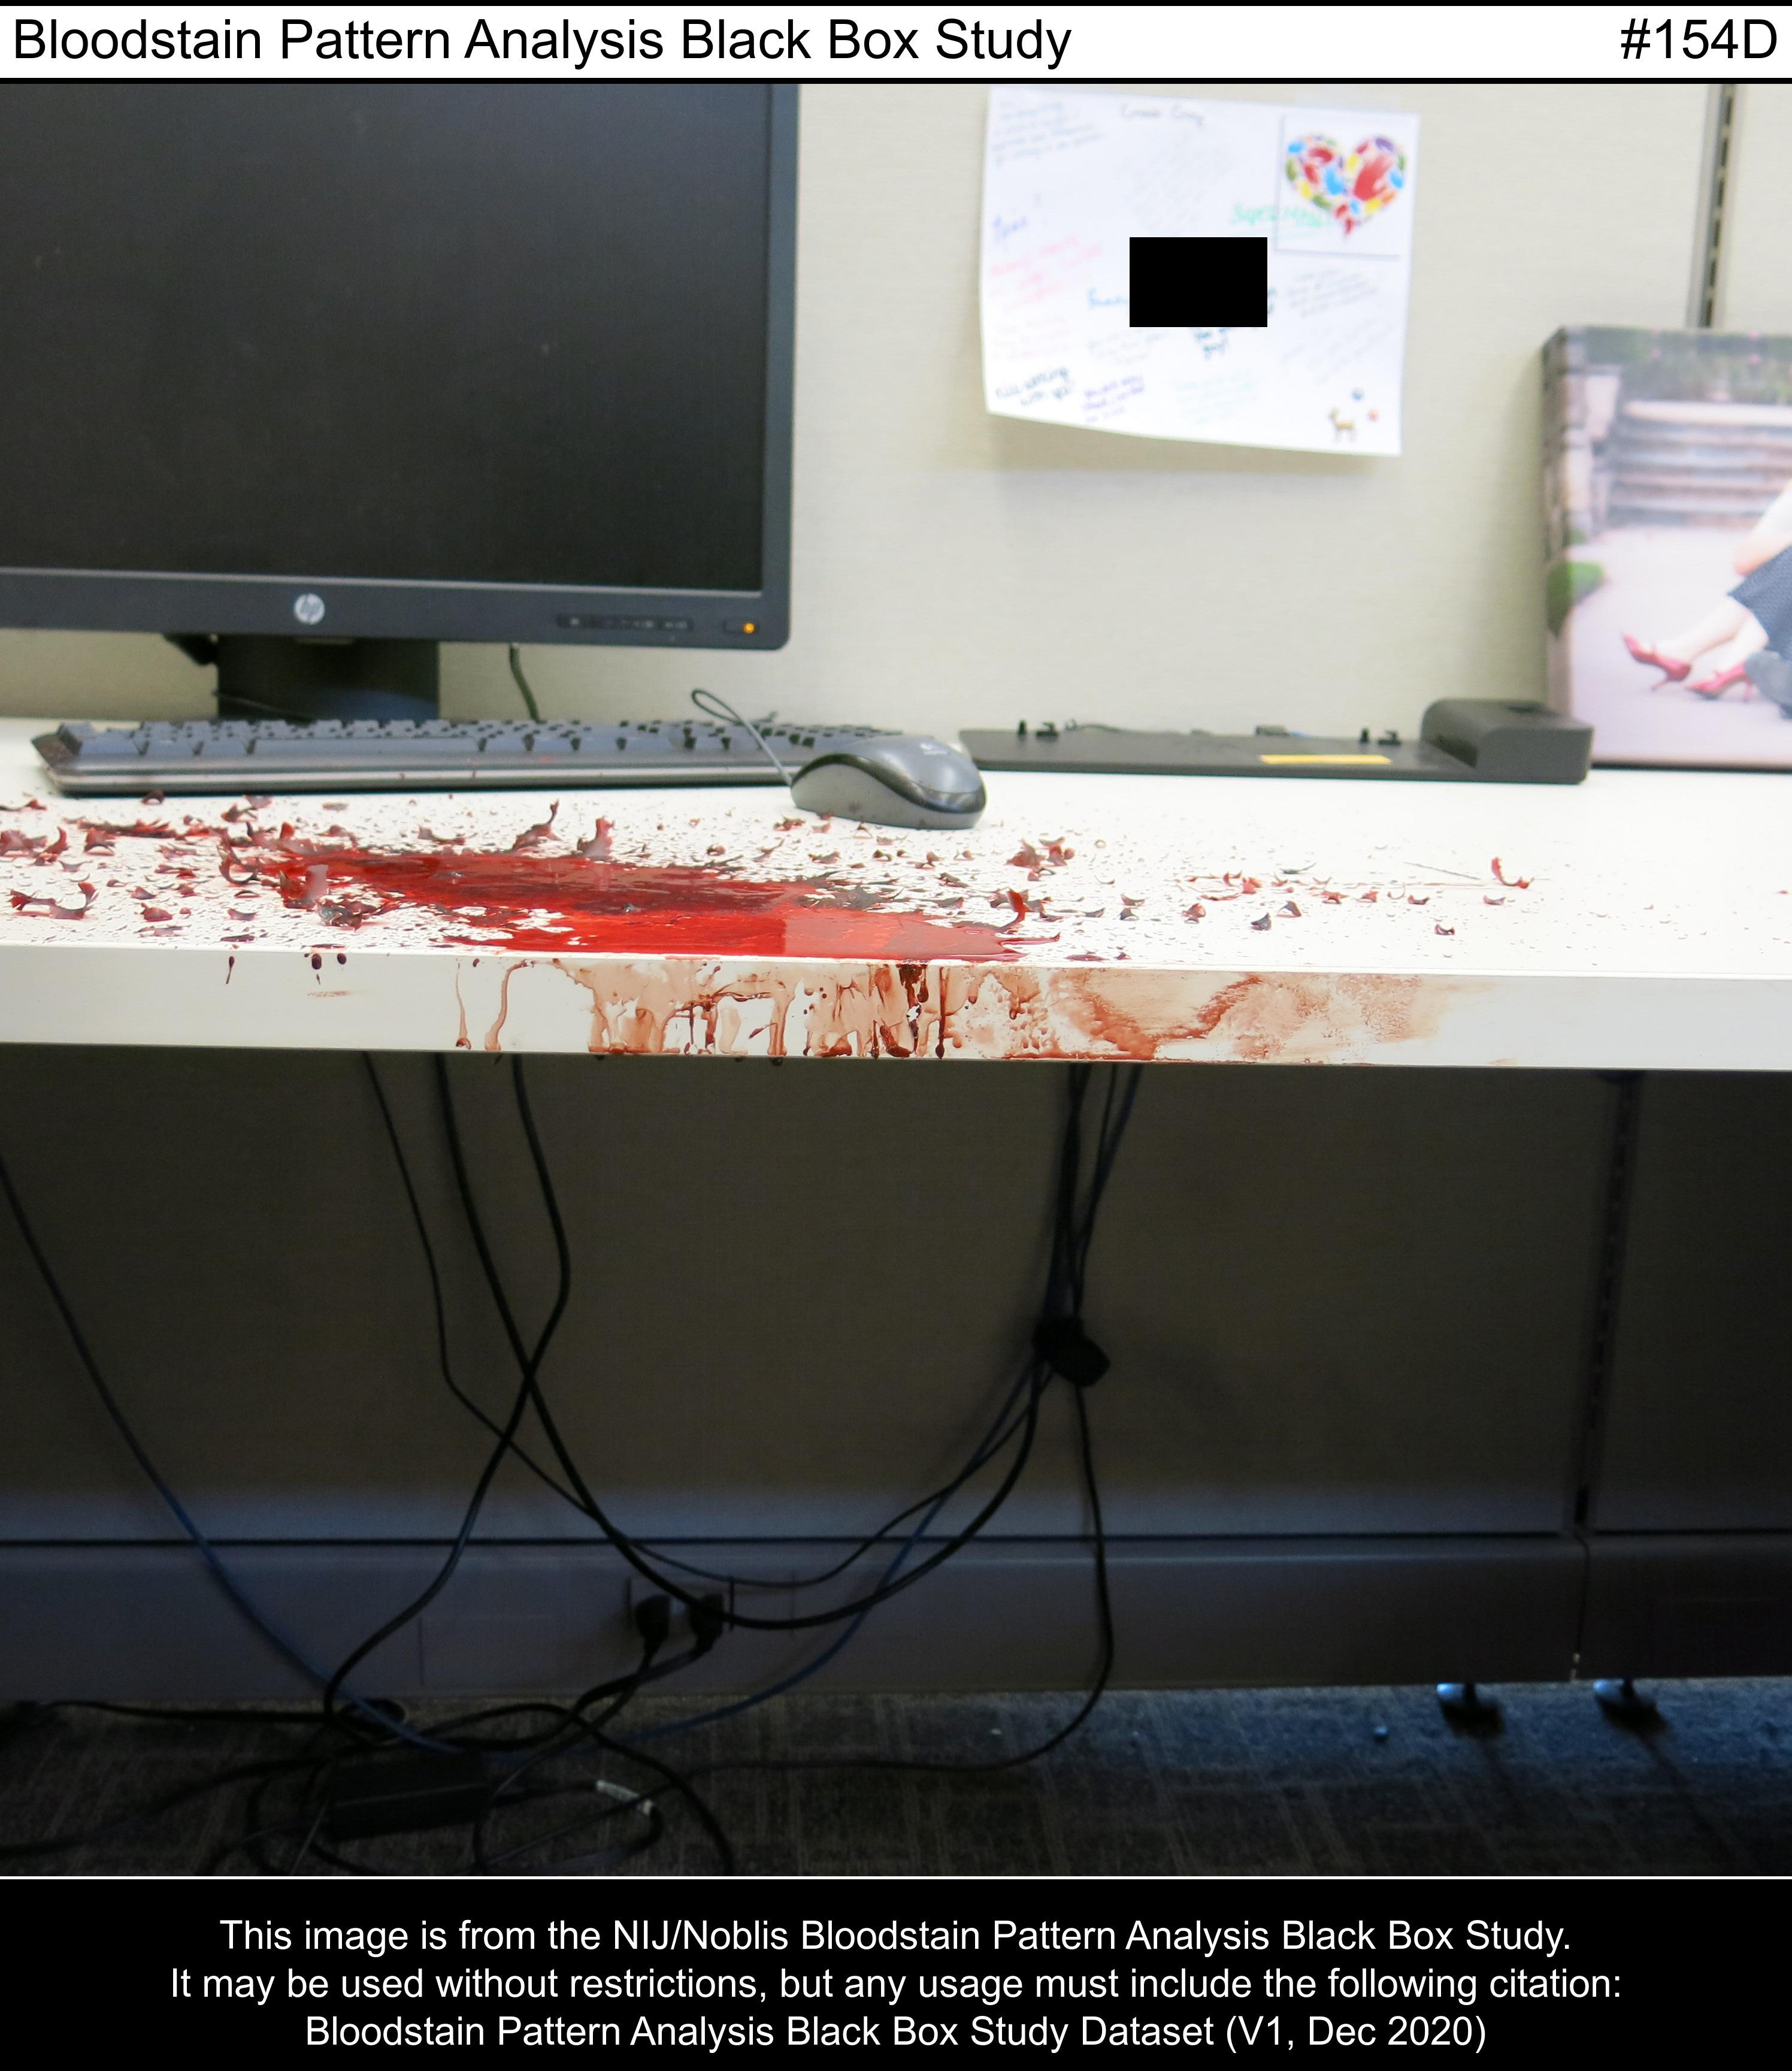Passive: (125, 821, 1477, 1044)
